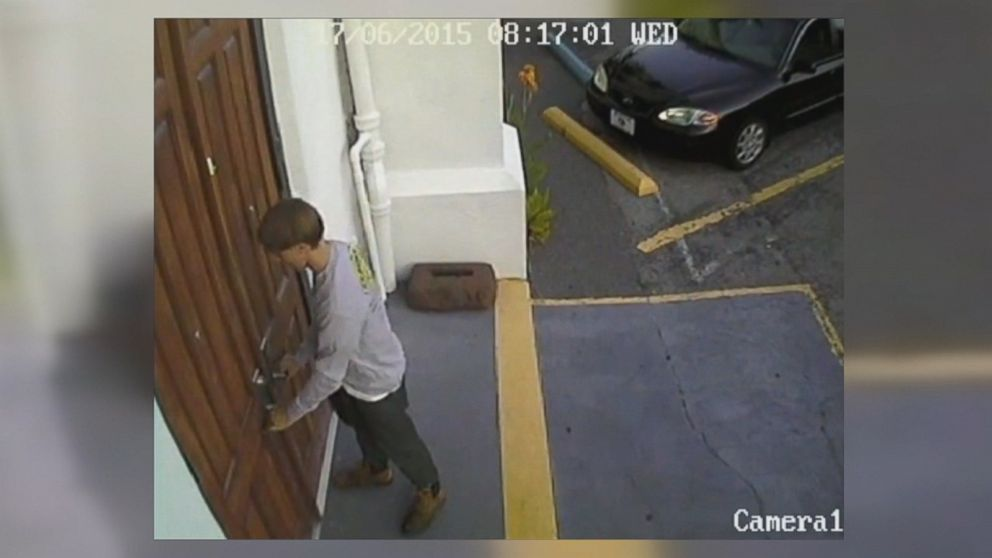Person: (246, 195, 458, 539)
